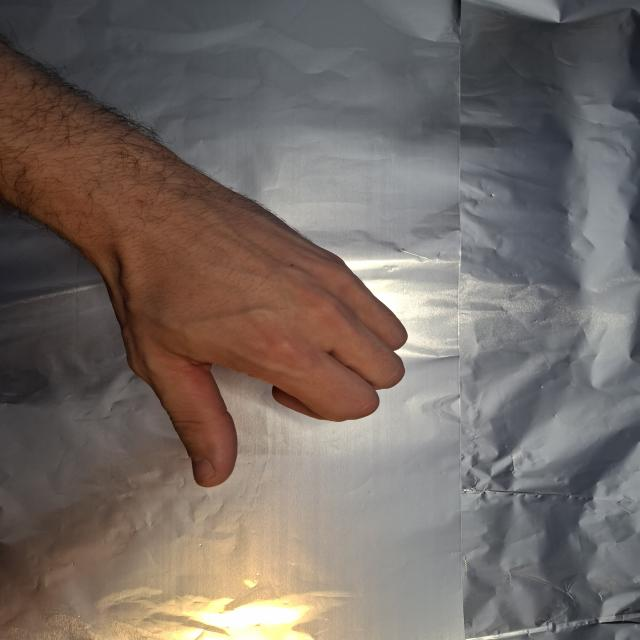glove_off: (55, 180, 412, 490)
